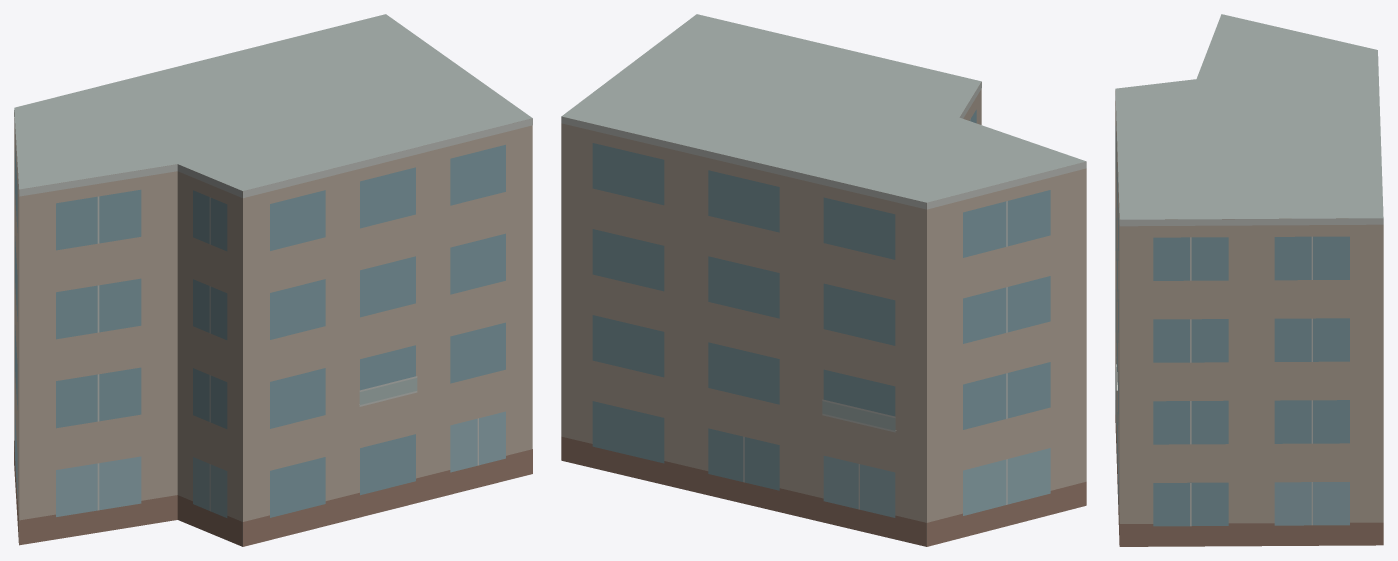
Rendered from residential-98898f8a-1a60-4145-8ea1-d208c5e91d09.glb.
3 renders of one model, left to right at view 1: azimuth 30°, elevation 25°; view 2: azimuth 150°, elevation 25°; view 3: azimuth 270°, elevation 25°, orthographic. The views are drawn at different scales.
Visible parts, largest first — view 1: residential-98898f8a-1a60-4145-8ea1-d208c5e91d09.tmp; view 2: residential-98898f8a-1a60-4145-8ea1-d208c5e91d09.tmp; view 3: residential-98898f8a-1a60-4145-8ea1-d208c5e91d09.tmp.
Part boxes in pixels (x1,y1,x2,y2): residential-98898f8a-1a60-4145-8ea1-d208c5e91d09.tmp: (14,14,532,546); residential-98898f8a-1a60-4145-8ea1-d208c5e91d09.tmp: (561,14,1086,546); residential-98898f8a-1a60-4145-8ea1-d208c5e91d09.tmp: (1115,14,1383,546).
Size of the model in its own units: 16.46 by 12.2 by 9.07.
